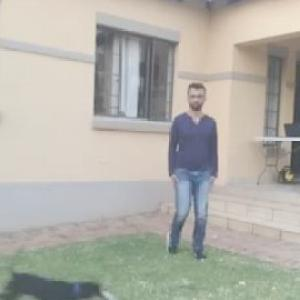follow: (163, 81, 221, 261)
